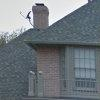Chimney: (25, 2, 59, 31)
